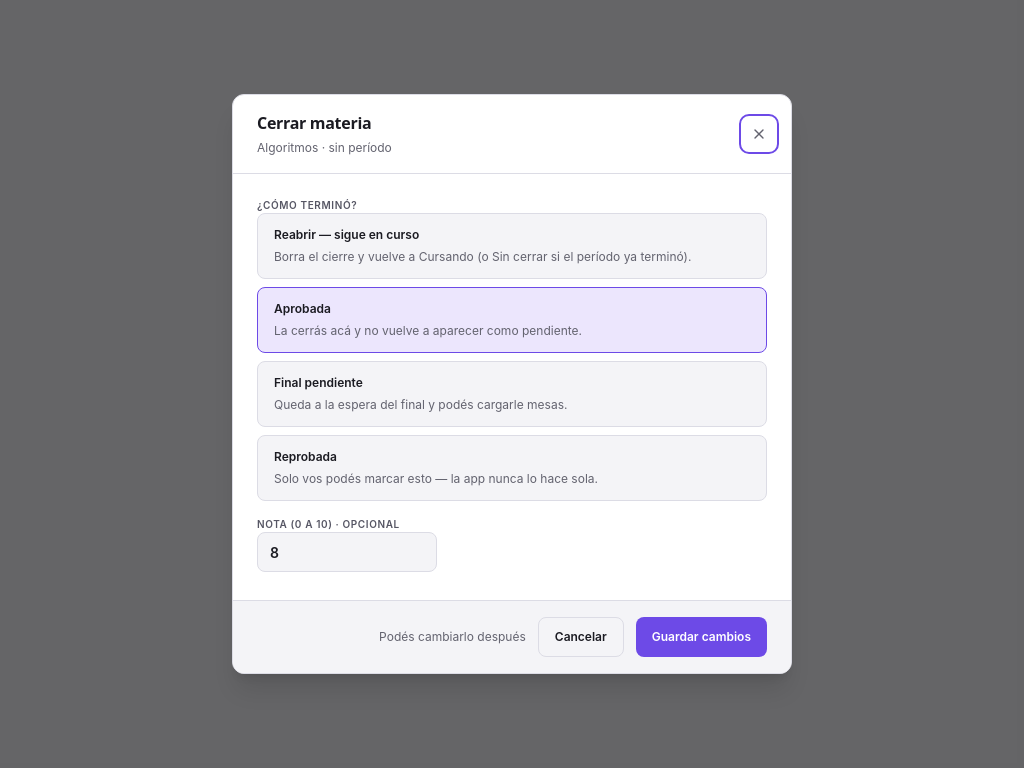
Test case: CerrarMateriaModal — replace-existing notice › names the current closure and its nota when a different outcome is selected
This screenshot has width=1024, height=768.
Step 1. Click the button "Reprobada" → (512, 468), box [257,435,767,501]
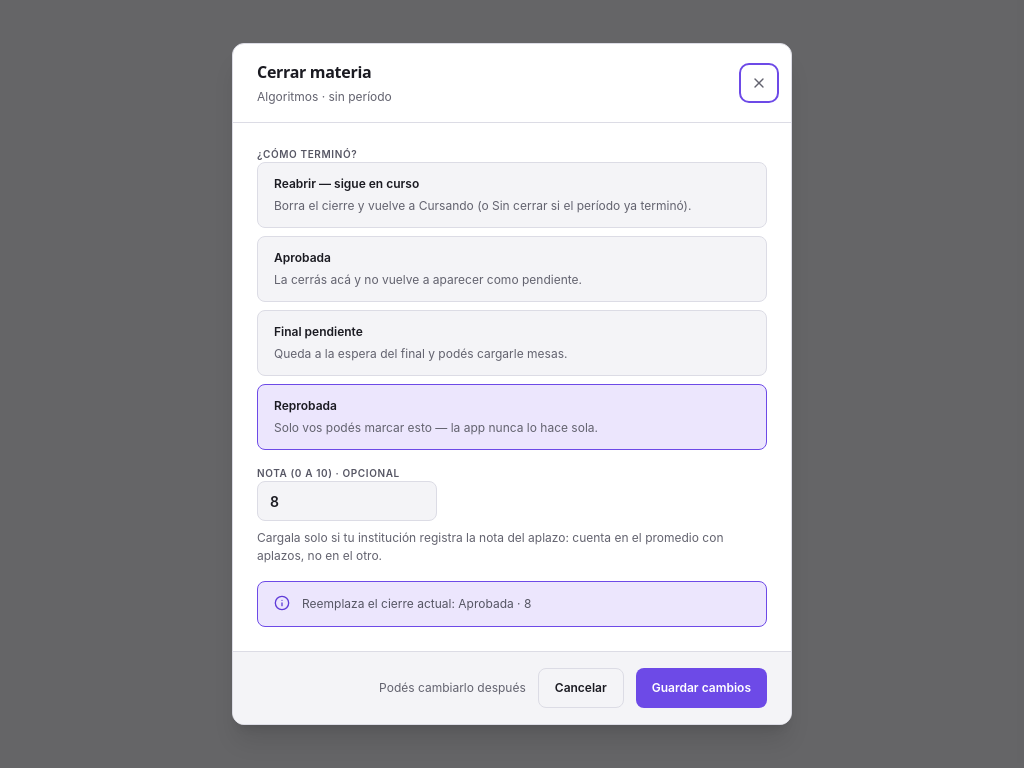
Now the text "Reemplaza el cierre actual: Aprobada · 8" is shown, box [302,594,531,614]
